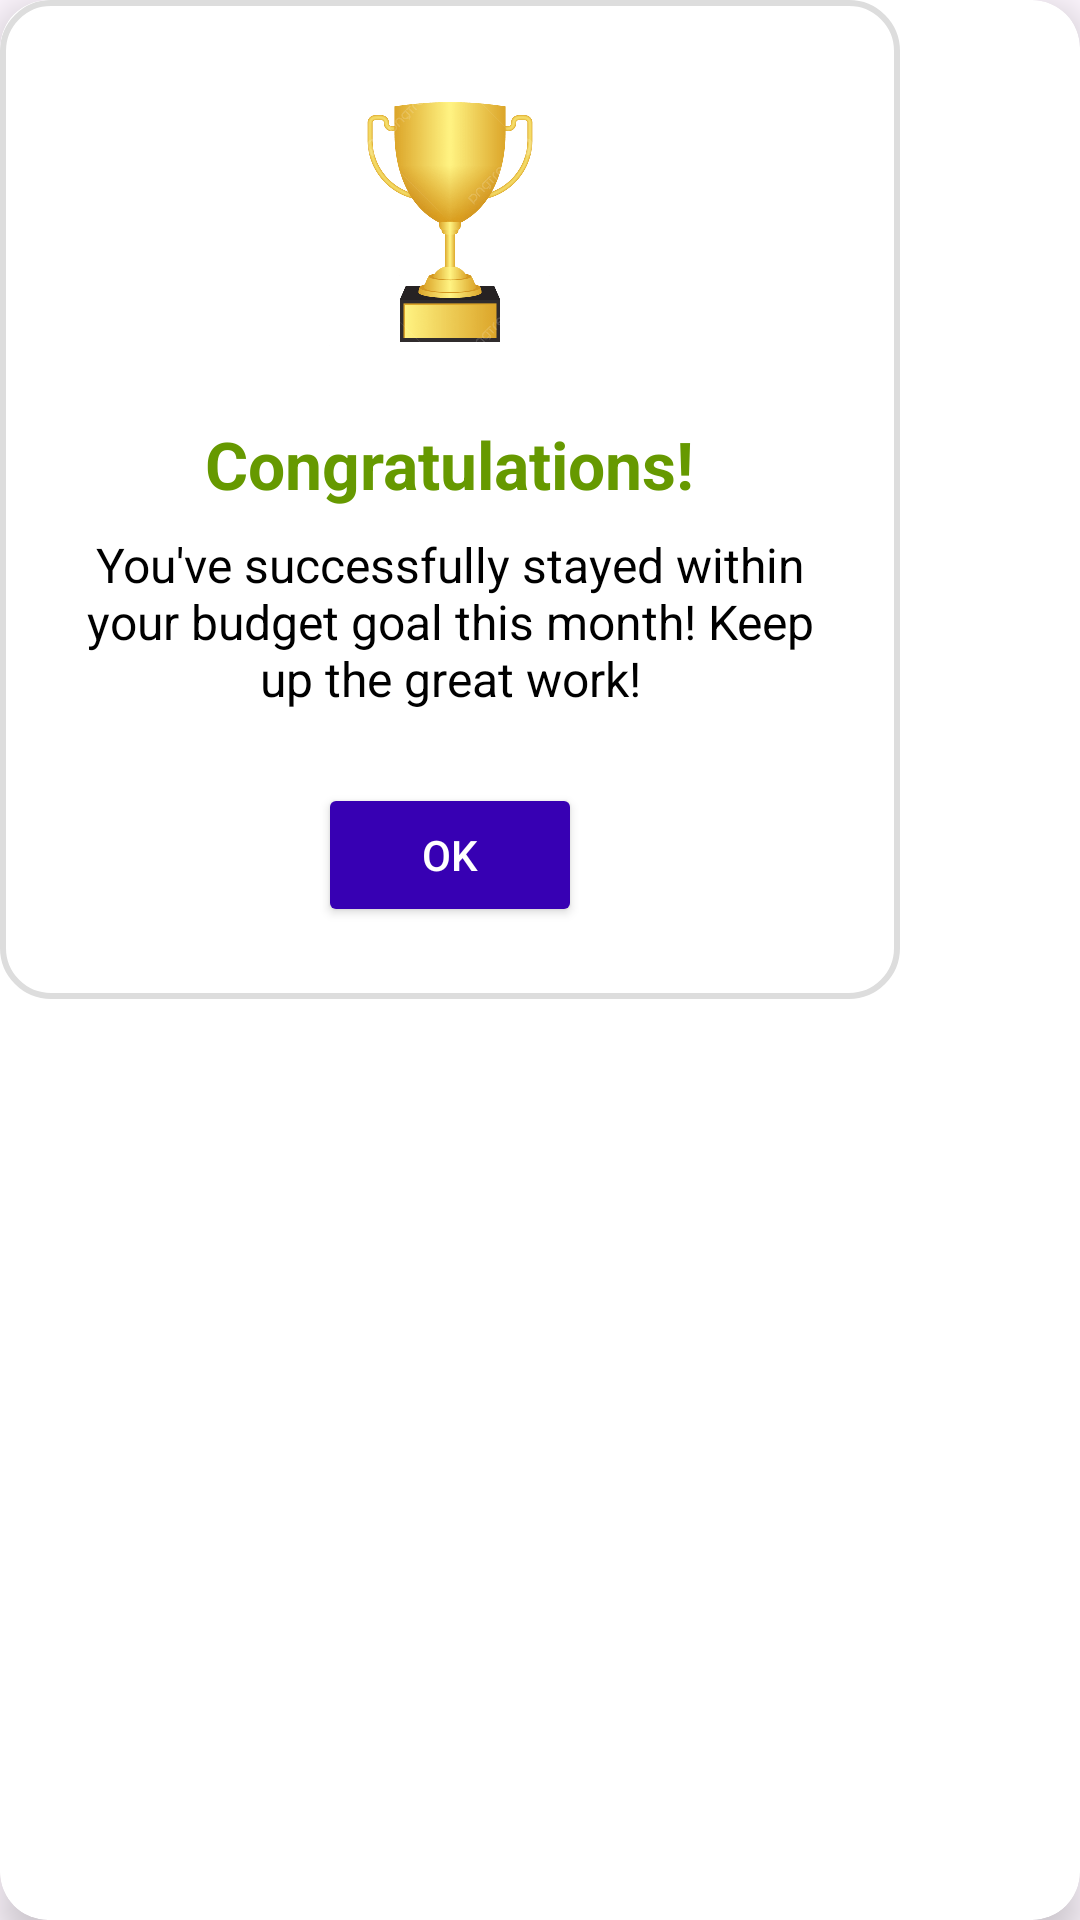

Icon click points for this 1080 x 1920 phone screenshot, format [x,y]:
Award Trophy: [450,222]
